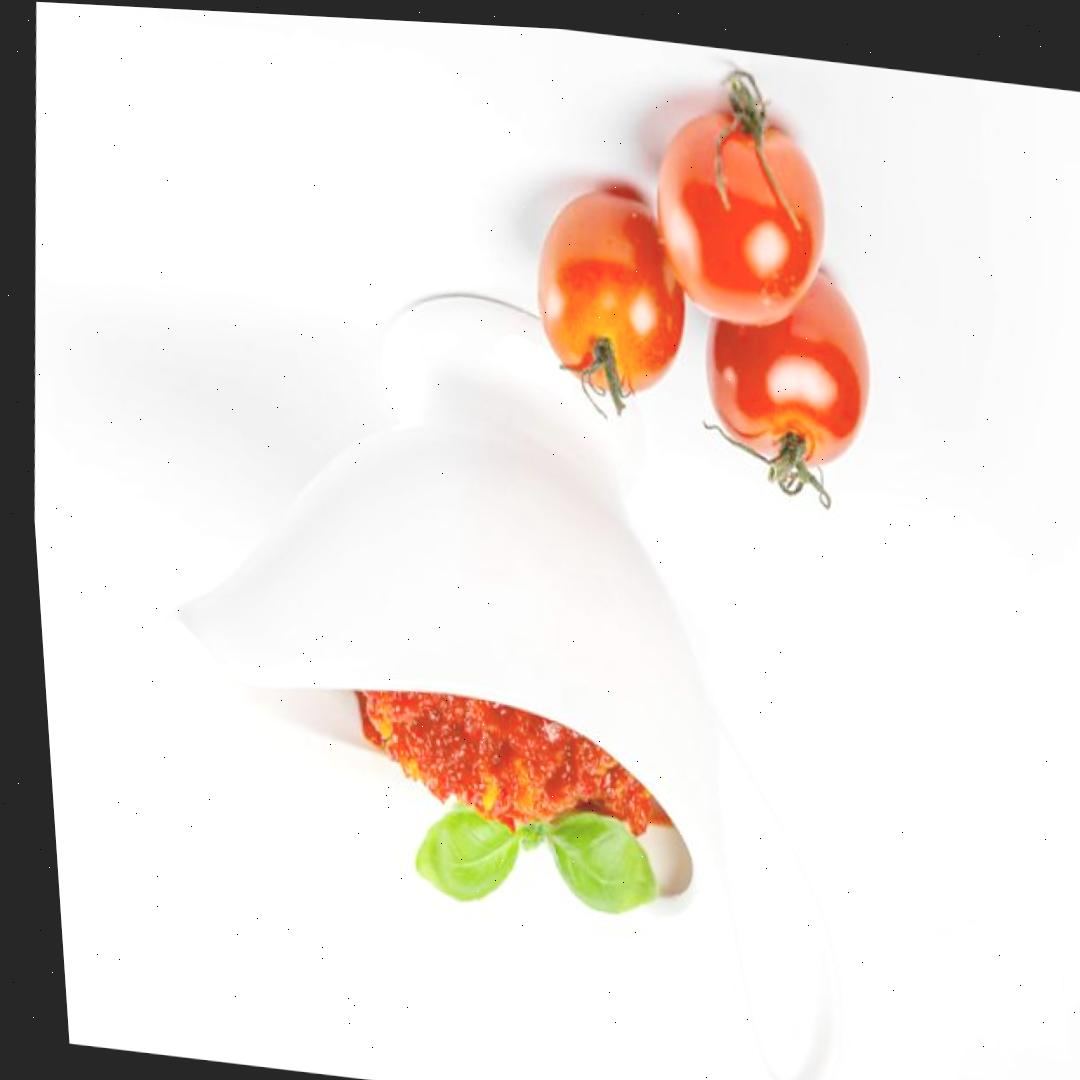matang: (645, 102, 841, 339), (691, 246, 887, 480), (527, 186, 700, 403)
